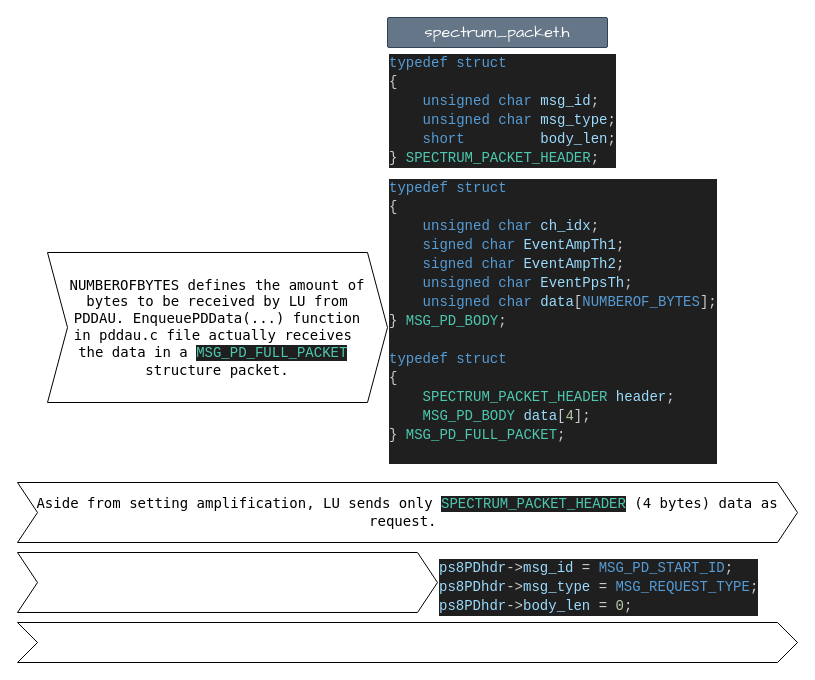
The diagram is 815 pixels wide and 680 high, and some of its shapes have lost their labels. Each missing label, with the centre of its shape:
"In return LU reads the full MSG_PD_FULL_PACKET ." belongs at point (407, 642).
"LU Send header for data stream request." belongs at point (227, 582).
